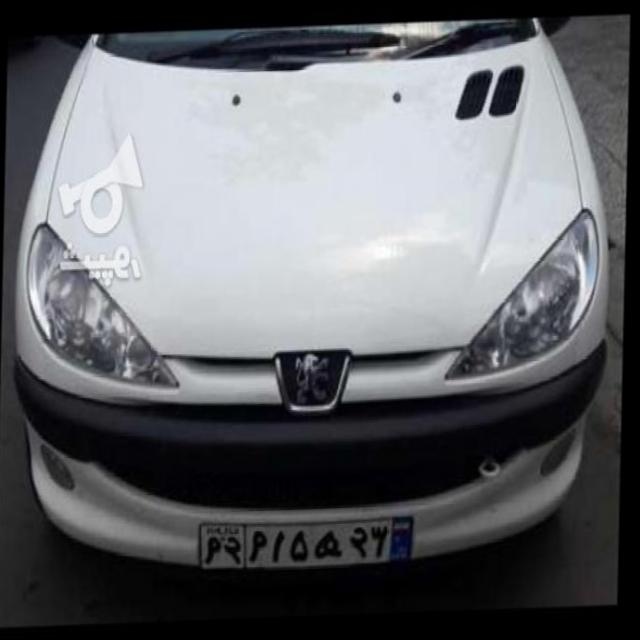licence: (200, 514, 420, 579)
